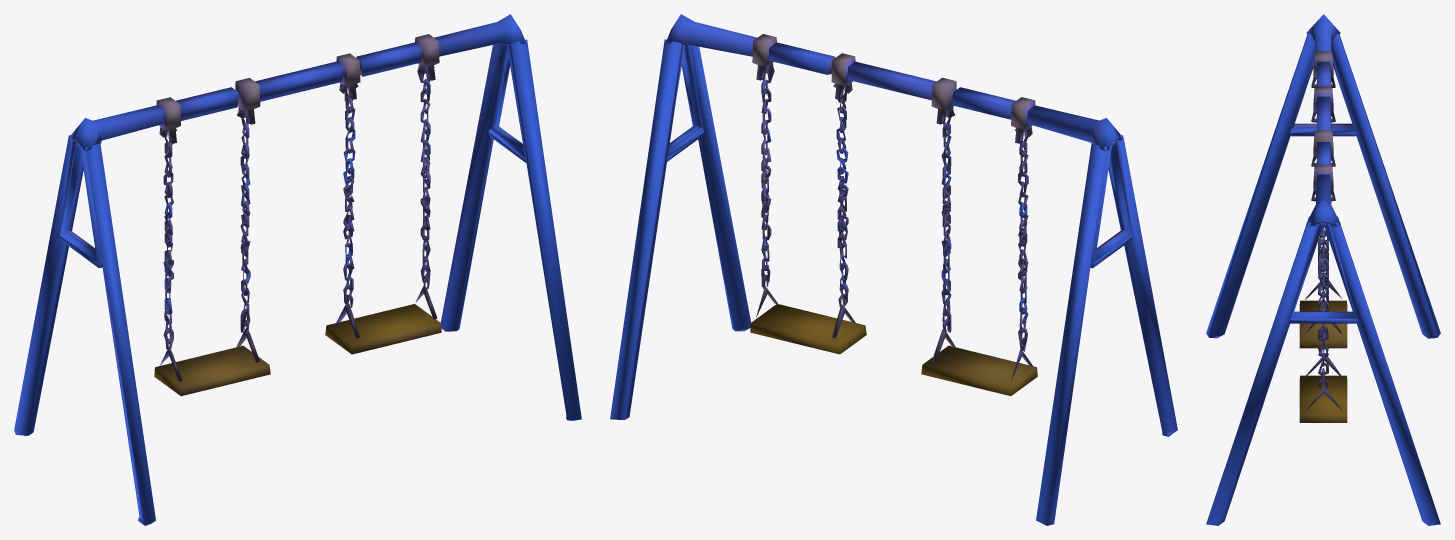
File: model.progressive.glb
The picture shows the model from 3 angles, left to right: view 1: azimuth 30°, elevation 25°; view 2: azimuth 150°, elevation 25°; view 3: azimuth 270°, elevation 25°; orthographic projection. The views are drawn at different scales.
Parts seen in each view (by area): view 1: material; view 2: material; view 3: material.
Part boxes in pixels (<box>): material: <box>14,14,581,525</box>; material: <box>610,14,1177,525</box>; material: <box>1206,14,1440,525</box>.
Size of the model in its own units: 1.9 by 1.46 by 0.9666.
Materials: 1 (1 with a texture image).
